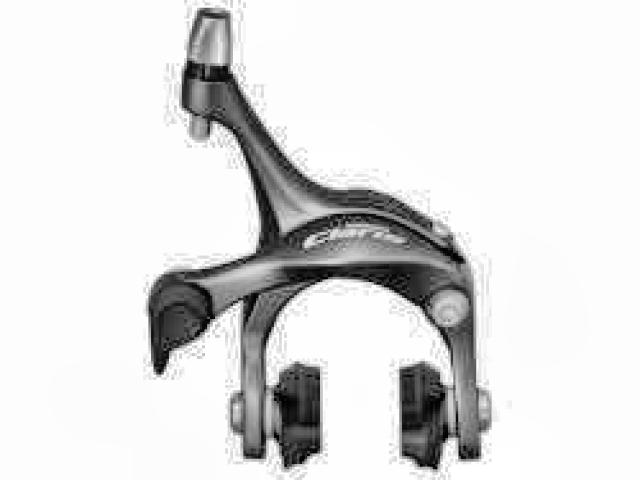rim_brake: (147, 7, 493, 476)
